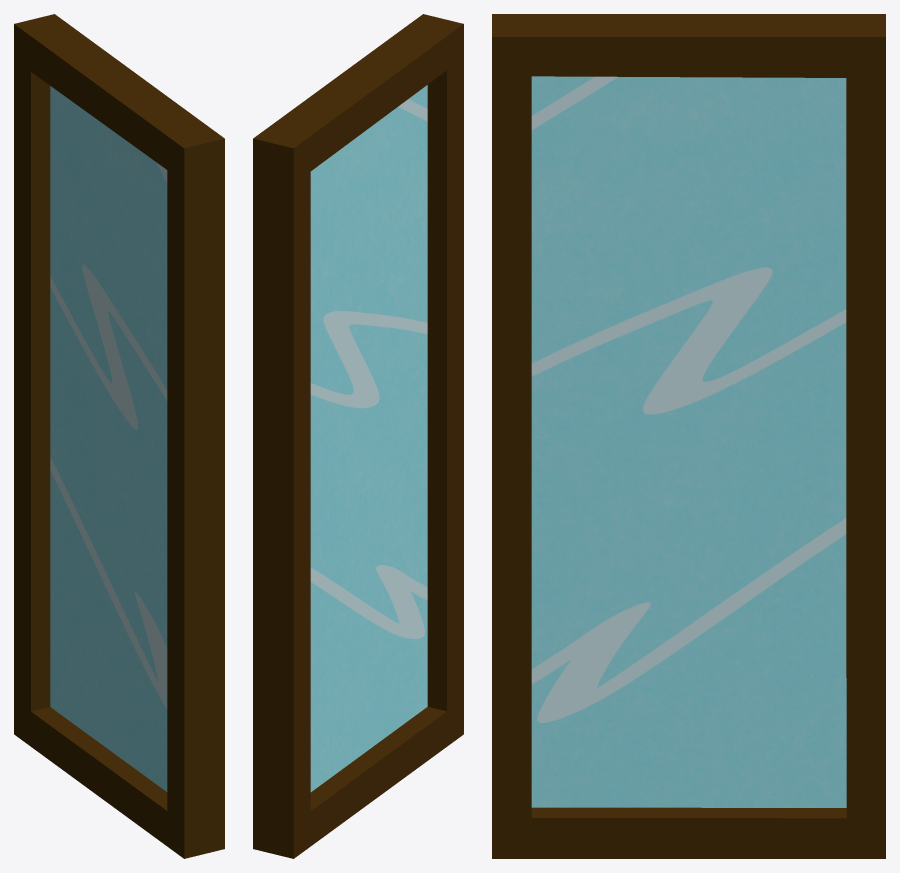
File: TerraceDoor2.obj
3 renders of one model, left to right at view 1: azimuth 30°, elevation 25°; view 2: azimuth 150°, elevation 25°; view 3: azimuth 270°, elevation 25°, orthographic. The views are drawn at different scales.
Visible parts, largest first — view 1: TerraceDoor1 TerraceDoors TerraceDoorFrame1, TerraceDoorGlass1 TerraceDoor1 TerraceDoors; view 2: TerraceDoor1 TerraceDoors TerraceDoorFrame1, TerraceDoorGlass1 TerraceDoor1 TerraceDoors; view 3: TerraceDoorGlass1 TerraceDoor1 TerraceDoors, TerraceDoor1 TerraceDoors TerraceDoorFrame1.
Part boxes in pixels (bbox=[...]): TerraceDoor1 TerraceDoors TerraceDoorFrame1: bbox=[14, 14, 224, 858]; TerraceDoorGlass1 TerraceDoor1 TerraceDoors: bbox=[50, 86, 167, 791]; TerraceDoor1 TerraceDoors TerraceDoorFrame1: bbox=[253, 14, 463, 858]; TerraceDoorGlass1 TerraceDoor1 TerraceDoors: bbox=[310, 85, 427, 791]; TerraceDoorGlass1 TerraceDoor1 TerraceDoors: bbox=[531, 76, 846, 807]; TerraceDoor1 TerraceDoors TerraceDoorFrame1: bbox=[492, 14, 885, 858].
Size of the model in its own units: 17.75 by 297 by 129.
